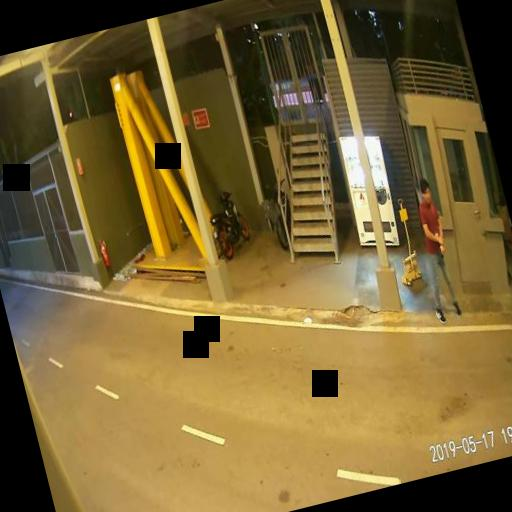Handgun: (436, 244, 446, 264)
